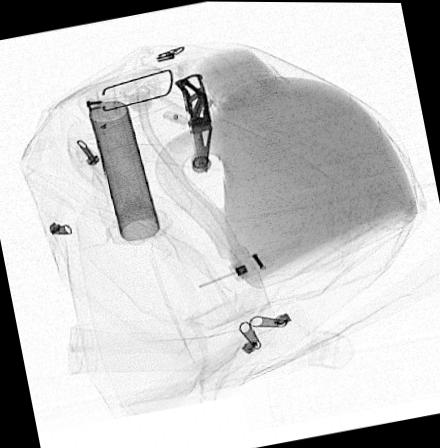Knife: (172, 72, 212, 172)
